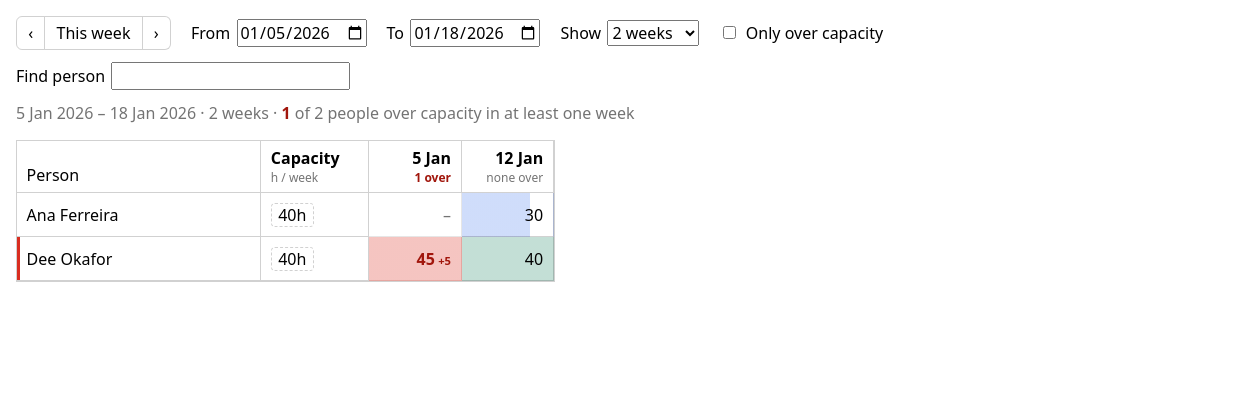
Test: what a failed save says › waits 1, 2, 4 and 8 seconds between the 5 attempts
expect the column heading "Dee Okafor" is shown: met, box [17,237,261,281]
Click the button named "Weekly hours for Dee Okafor" at (292, 259), box [271,247,314,271]
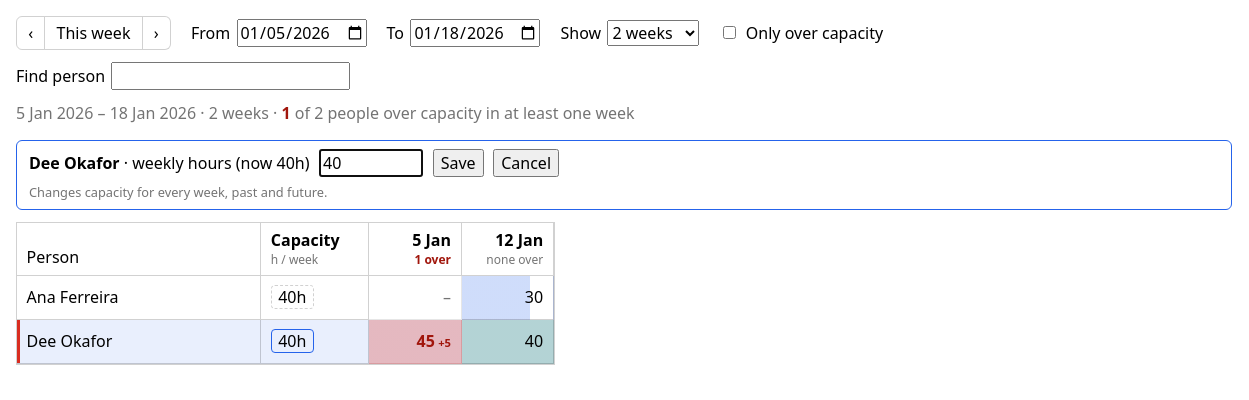
Replace the text in the field named "Weekly hours for Dee Okafor" with "50" at (371, 163), box [319,149,423,177]
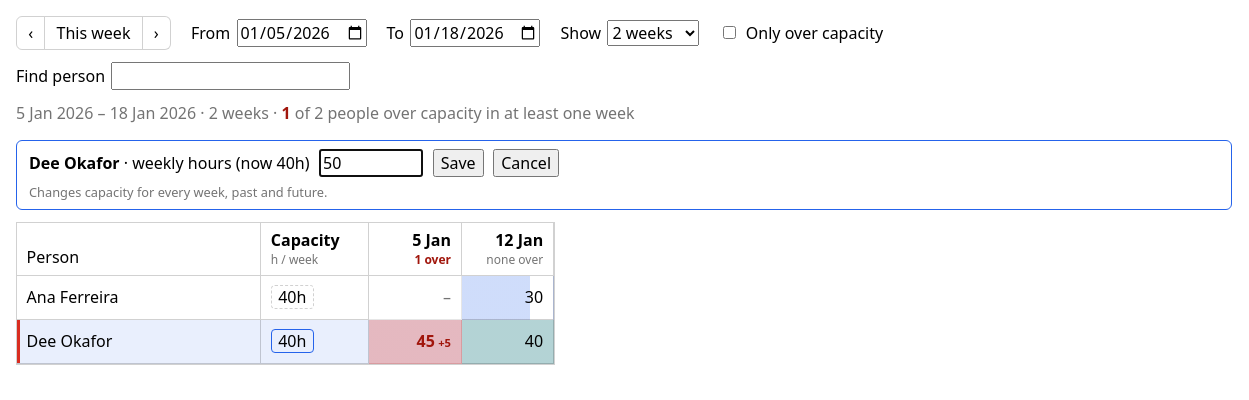
Submit the form named "Weekly hours for Dee Okafor", box [16,140,1232,210]
Wait 75000 ms
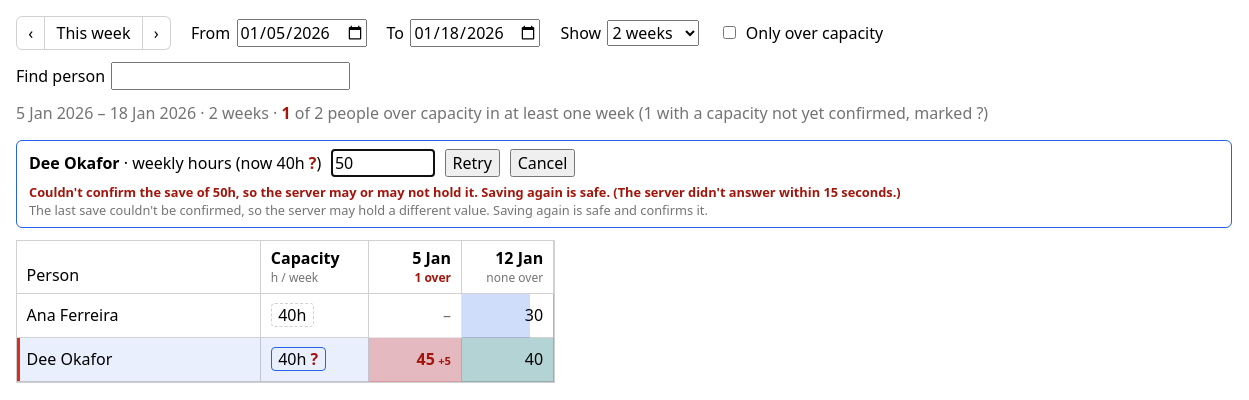
expect the message shows "Couldn't confirm the save": met, box [29,183,901,201]
